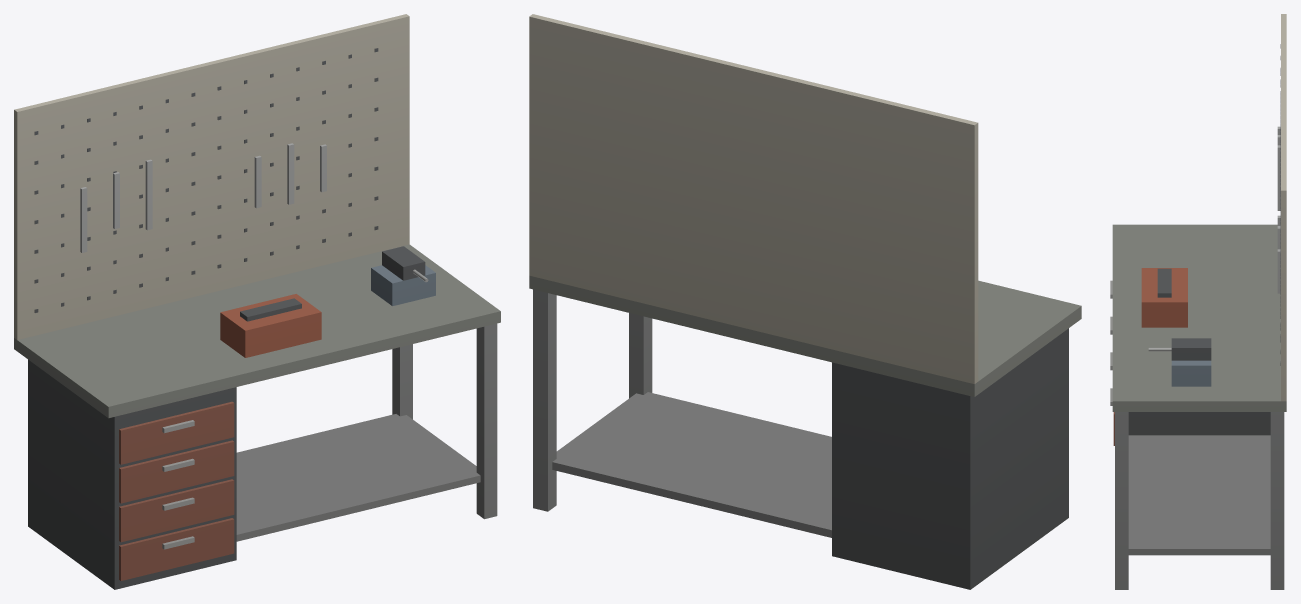
File: workbench_steel.glb
3 views of the same model, side by side, from view 1: azimuth 30°, elevation 25°; view 2: azimuth 150°, elevation 25°; view 3: azimuth 270°, elevation 25° (orthographic). The views are drawn at different scales.
Parts seen in each view (by area): view 1: workbench_steel; view 2: workbench_steel; view 3: workbench_steel.
Part boxes in pixels (<box>): workbench_steel: <box>14,14,500,589</box>; workbench_steel: <box>529,14,1081,589</box>; workbench_steel: <box>1110,14,1286,589</box>.
Size of the model in its own units: 1.8 by 1.9 by 0.76.
